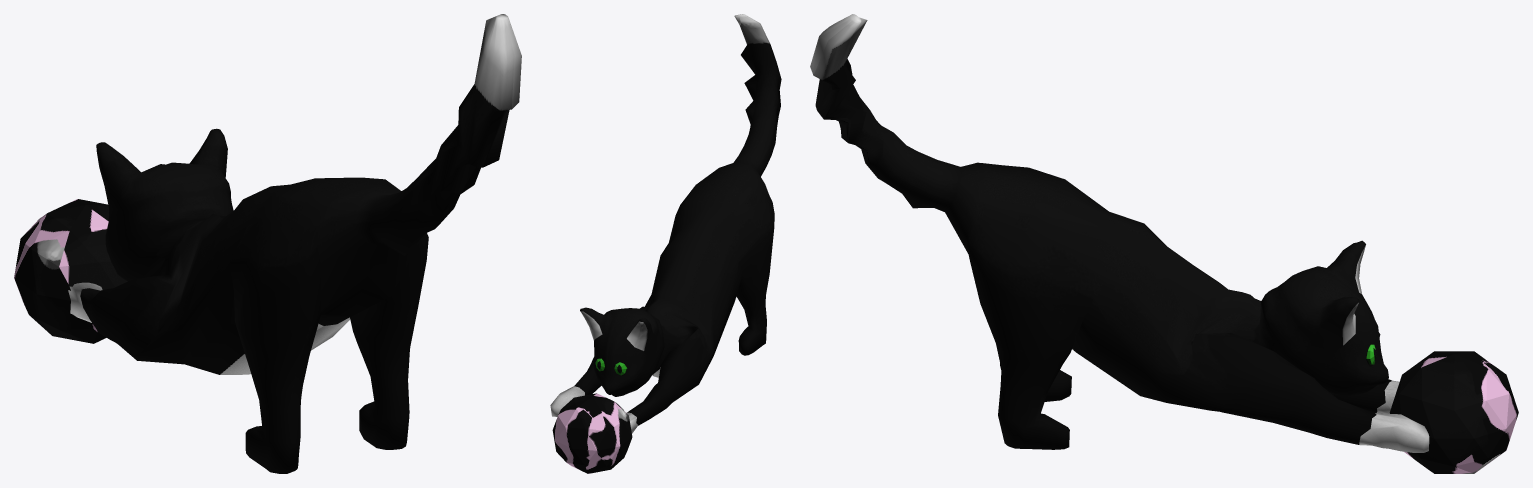
The model's file is black.fbx.
3 renders of one model, left to right at view 1: azimuth 30°, elevation 25°; view 2: azimuth 150°, elevation 25°; view 3: azimuth 270°, elevation 25°, orthographic. The views are drawn at different scales.
Parts seen in each view (by area): view 1: Object_7; view 2: Object_7; view 3: Object_7.
Part boxes in pixels (bbox=[...]): Object_7: bbox=[14, 14, 521, 473]; Object_7: bbox=[550, 14, 781, 473]; Object_7: bbox=[810, 14, 1518, 473].
Bounding box in the file's own units: 581 × 1818 × 2398.
1 material, 1 textured.
